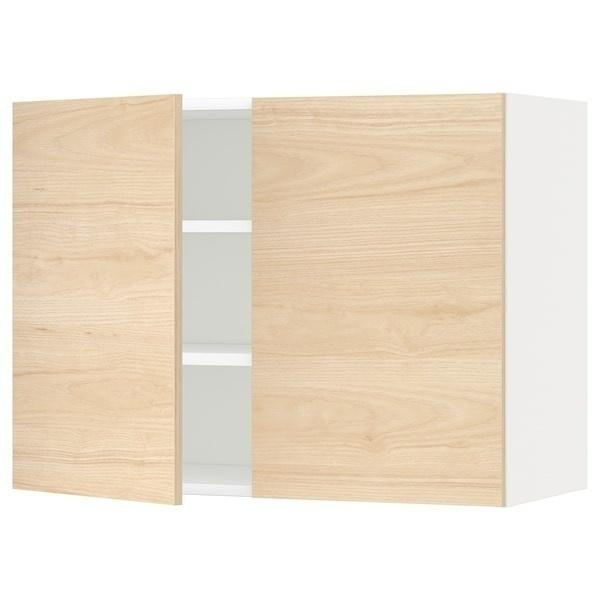cabinet_door: (254, 102, 505, 498), (13, 103, 177, 503)
